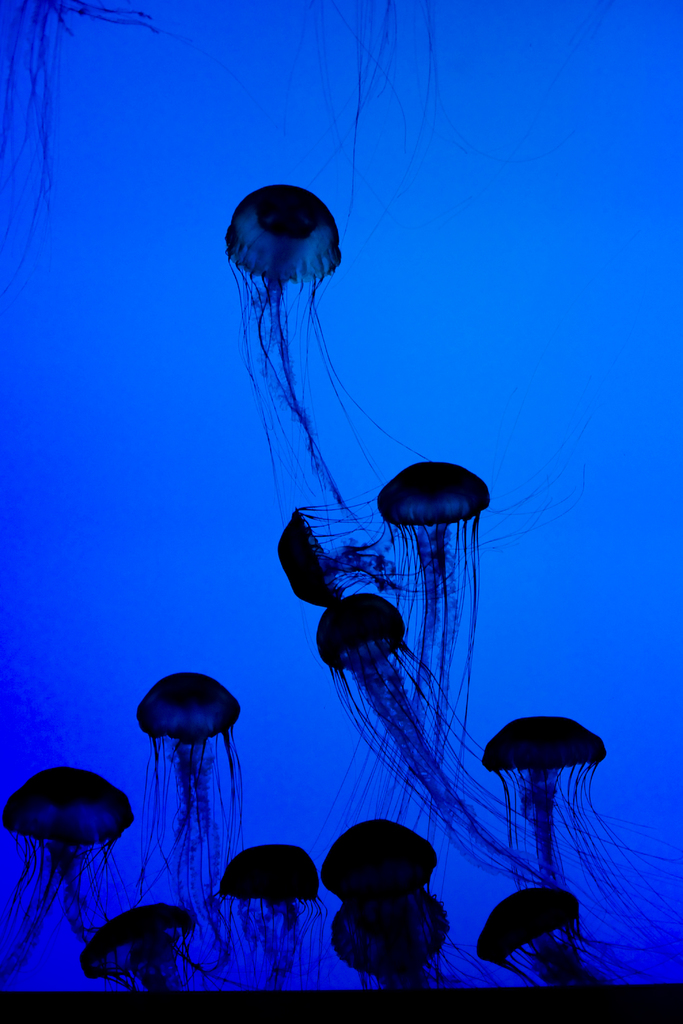Jellyfish: (298, 583, 666, 910), (220, 180, 435, 540), (309, 462, 491, 868), (281, 474, 554, 625), (481, 716, 682, 912), (133, 670, 244, 1000), (0, 763, 148, 990), (477, 876, 682, 990), (219, 840, 323, 1000), (85, 897, 211, 1000), (326, 896, 458, 993), (319, 812, 436, 896)
